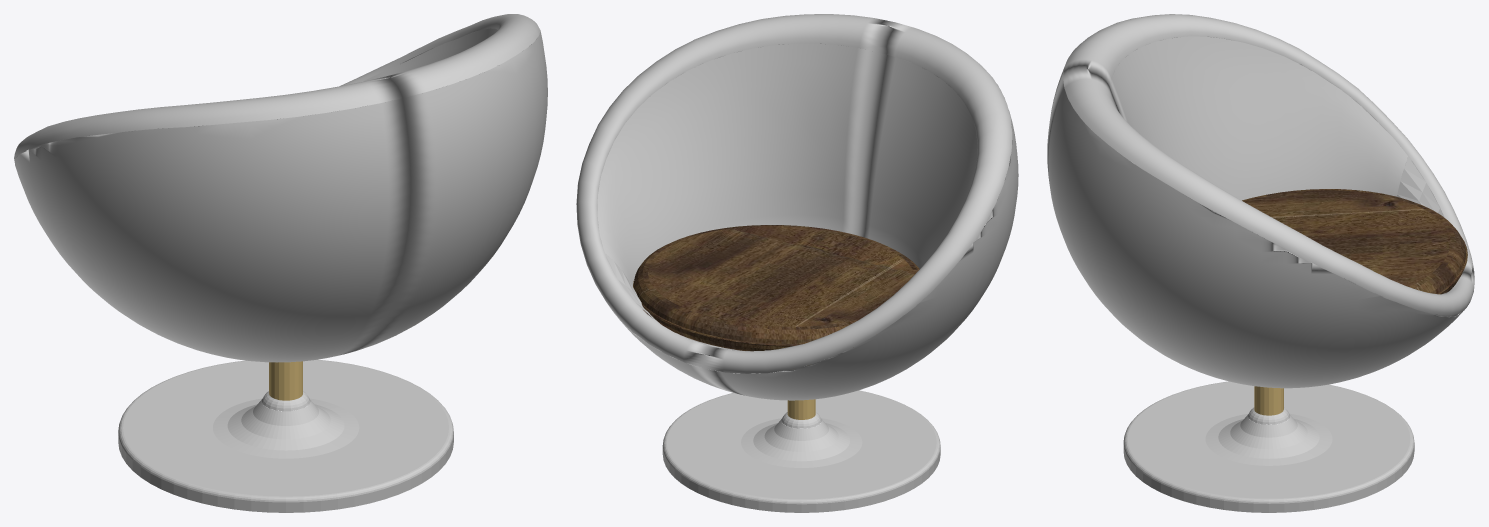
3 renders of one model, left to right at view 1: azimuth 30°, elevation 25°; view 2: azimuth 150°, elevation 25°; view 3: azimuth 270°, elevation 25°, orthographic. The views are drawn at different scales.
Visible parts, largest first — view 1: mesh7_mesh7-geometry, mesh3_mesh3-geometry, mesh5_mesh5-geometry, mesh6_mesh6-geometry, mesh2_mesh2-geometry; view 2: mesh6_mesh6-geometry, mesh5_mesh5-geometry, mesh3_mesh3-geometry, mesh1_mesh1-geometry, mesh7_mesh7-geometry, mesh2_mesh2-geometry, mesh8_mesh8-geometry; view 3: mesh7_mesh7-geometry, mesh6_mesh6-geometry, mesh3_mesh3-geometry, mesh5_mesh5-geometry, mesh1_mesh1-geometry, mesh2_mesh2-geometry.
Boxes of the visible parts, box(x1,y1,x2,y2) form: mesh7_mesh7-geometry: box(15, 30, 547, 362); mesh3_mesh3-geometry: box(118, 359, 453, 512); mesh5_mesh5-geometry: box(14, 14, 540, 162); mesh6_mesh6-geometry: box(89, 28, 497, 135); mesh2_mesh2-geometry: box(269, 361, 302, 400); mesh6_mesh6-geometry: box(597, 43, 977, 351); mesh5_mesh5-geometry: box(576, 14, 1012, 373); mesh3_mesh3-geometry: box(662, 390, 940, 512); mesh1_mesh1-geometry: box(633, 225, 919, 351); mesh7_mesh7-geometry: box(597, 43, 1018, 400); mesh2_mesh2-geometry: box(787, 399, 815, 419); mesh8_mesh8-geometry: box(633, 281, 802, 346); mesh7_mesh7-geometry: box(1047, 36, 1467, 388); mesh6_mesh6-geometry: box(1111, 36, 1452, 294); mesh3_mesh3-geometry: box(1123, 381, 1414, 512); mesh5_mesh5-geometry: box(1063, 14, 1474, 315); mesh1_mesh1-geometry: box(1242, 189, 1465, 294); mesh2_mesh2-geometry: box(1254, 386, 1283, 415).
Bounding box in the file's own units: 0.6154 × 0.5538 × 0.5609.
